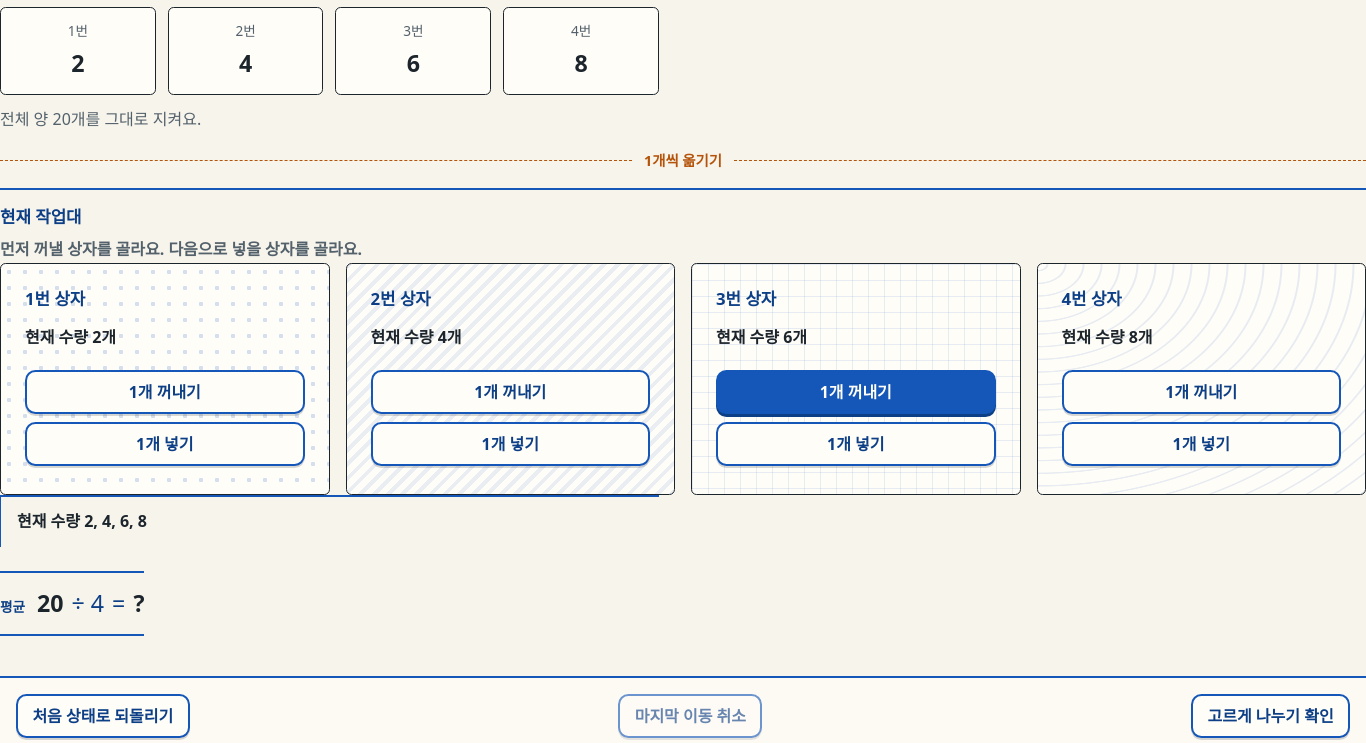
RedistributionPanel › returns the whole simulation to its initial state with a clear reset action
(page scrolled)
Click the button with aria-label "4번 상자에서 1개 꺼내기".
click(1201, 392)  # box [1062,370,1341,414]
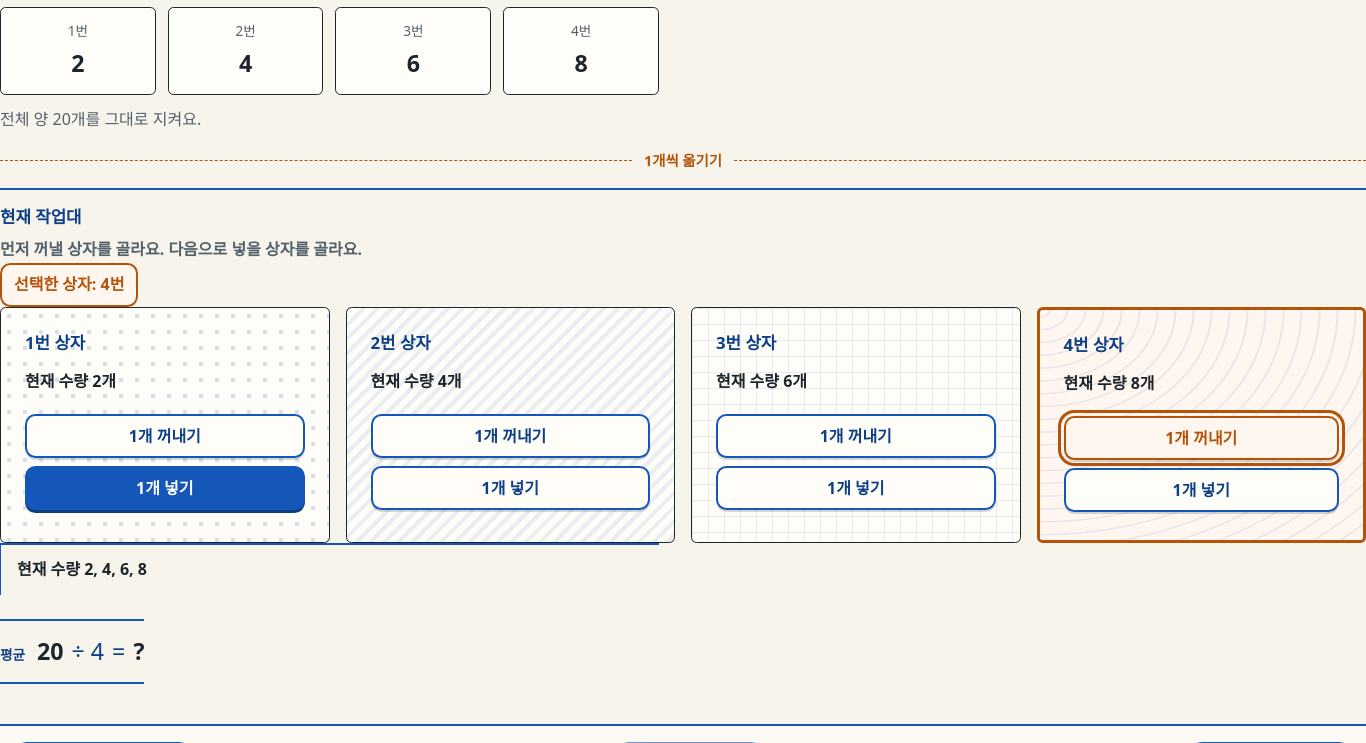
Click the button with aria-label "1번 상자에 1개 넣기".
click(165, 488)  # box [25,466,304,510]
(page scrolled)
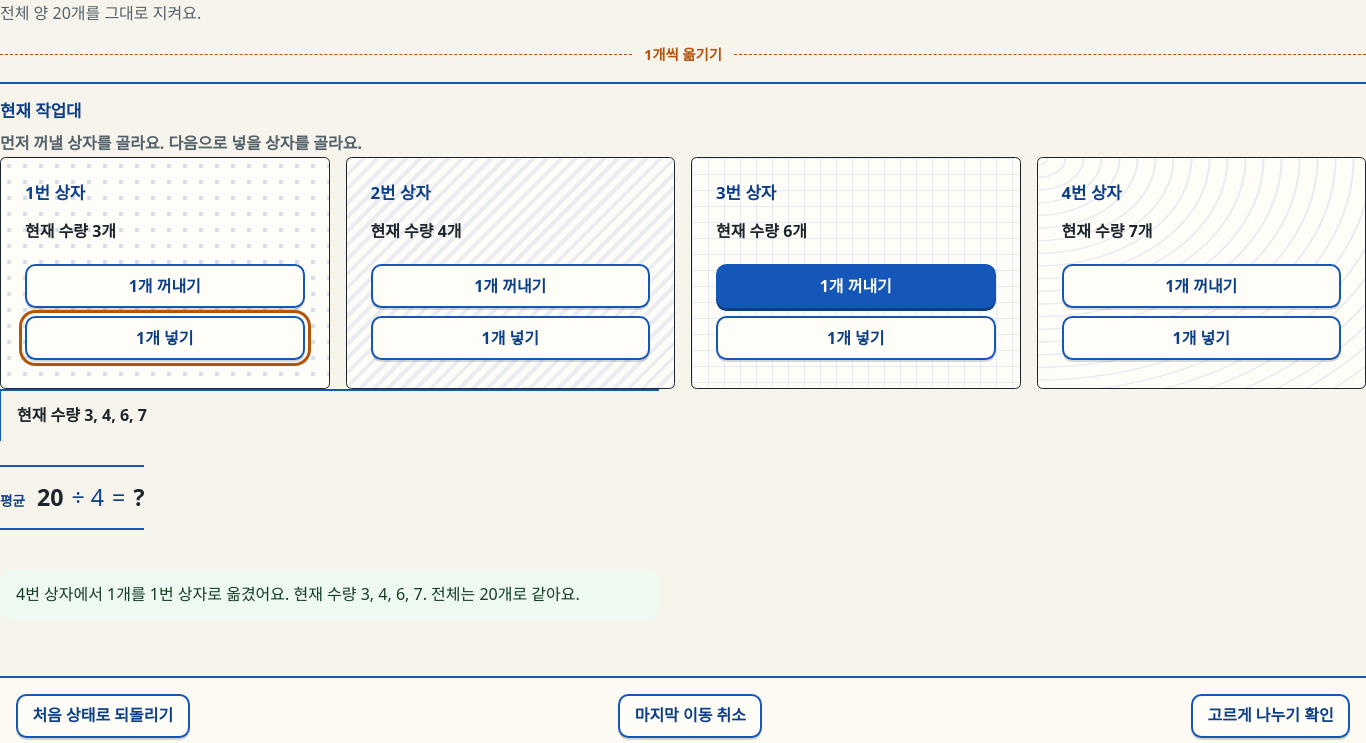
Expected: the text "현재 수량 3, 4, 6, 7" is shown, [0,390,659,441]
Click the button "처음 상태로 되돌리기".
click(103, 716)  # box [16,694,190,738]
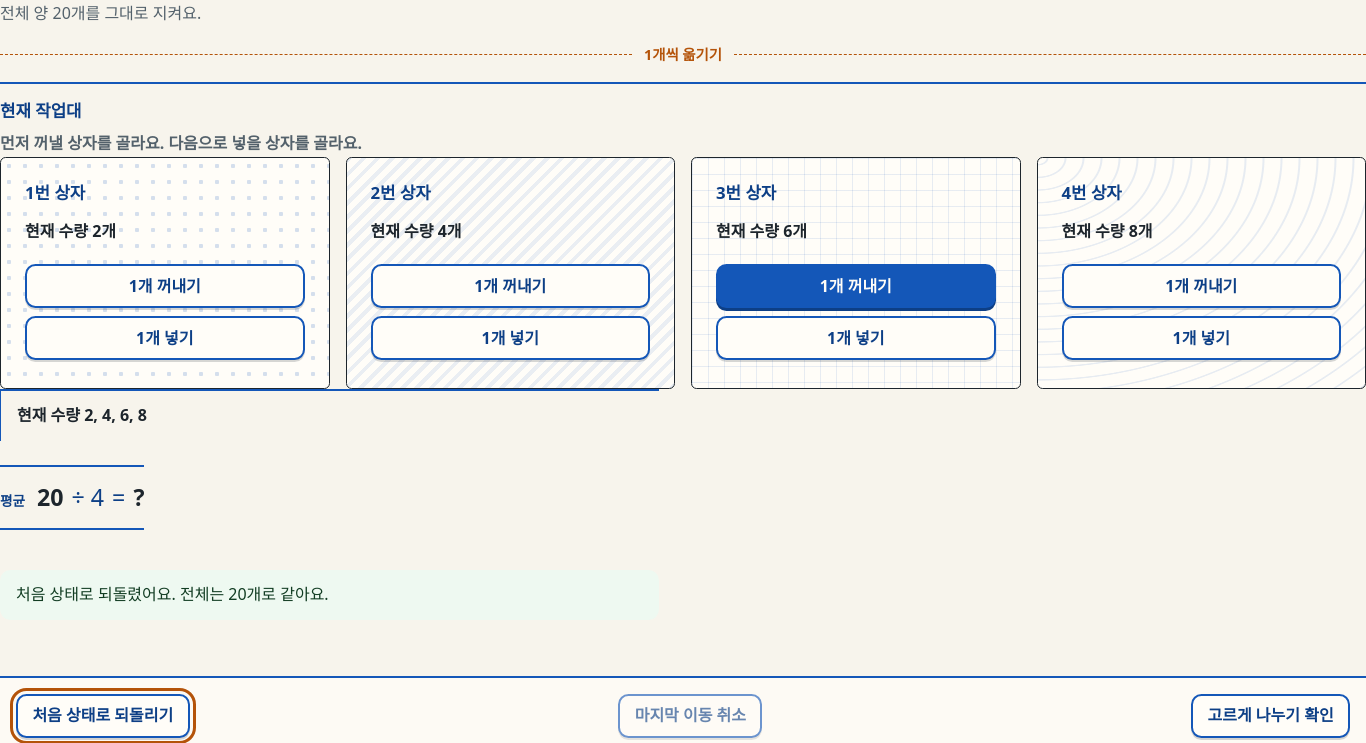
Expected: the text "현재 수량 2, 4, 6, 8" is shown, [0,390,659,441]
Expected: the button "마지막 이동 취소" is disabled, [618,694,762,738]
Expected: the message reads "처음 상태로 되돌렸어요. 전체는 20개로 같아요.", [16,583,329,605]
